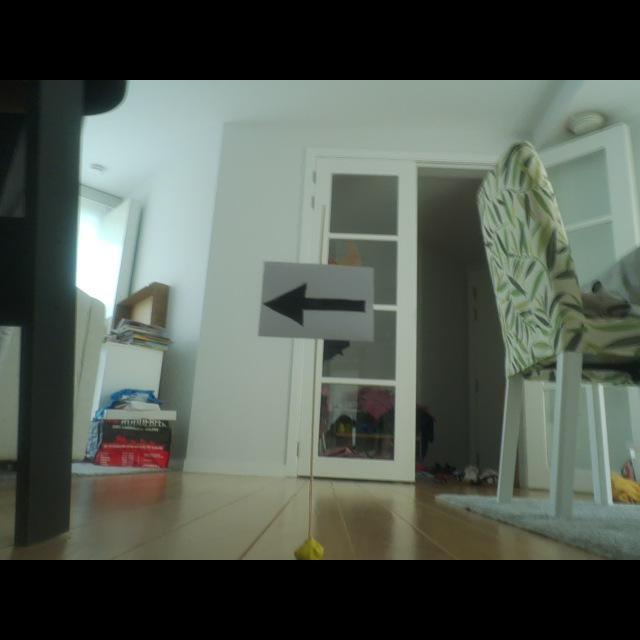balra_nyil: (264, 283, 364, 325)
